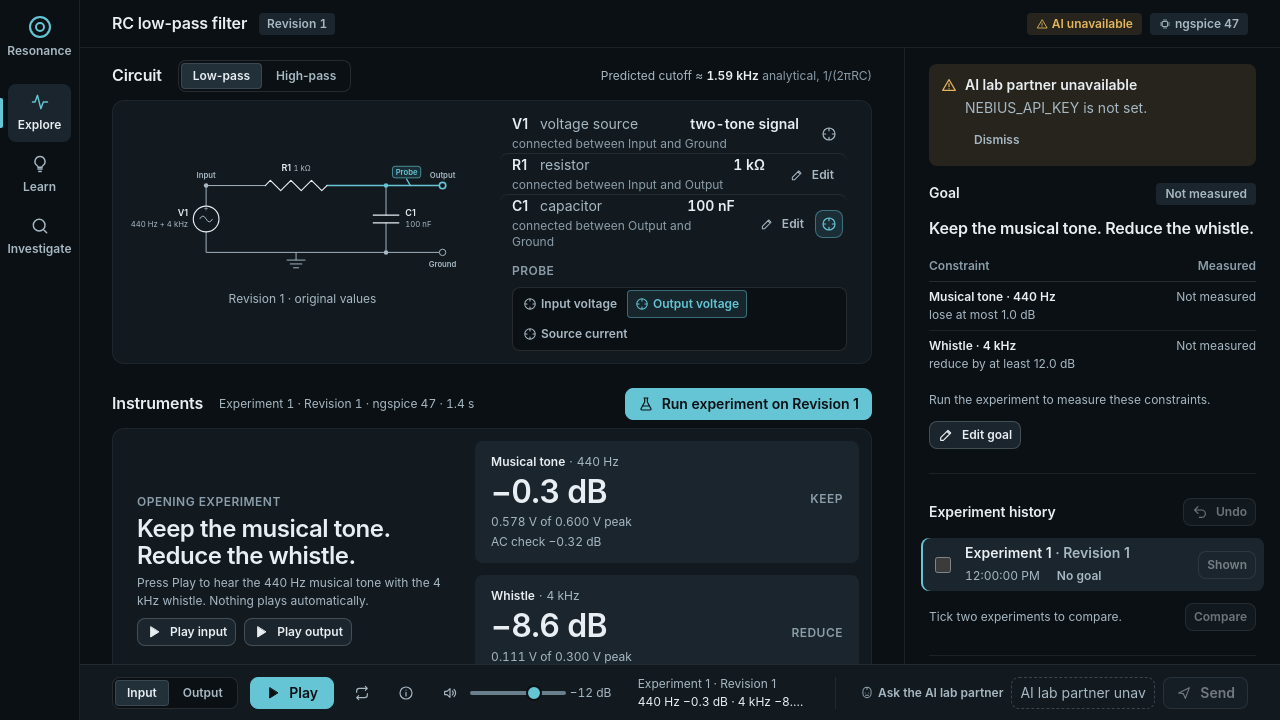
Test: App with AI unavailable › Investigate: Guide me works without AI and Investigate for me is disabled with a reason
expect the text "AI unavailable" is shown: met, box [1027,12,1142,34]
Click the button "Investigate": x=40, y=237 [8,208,71,266]
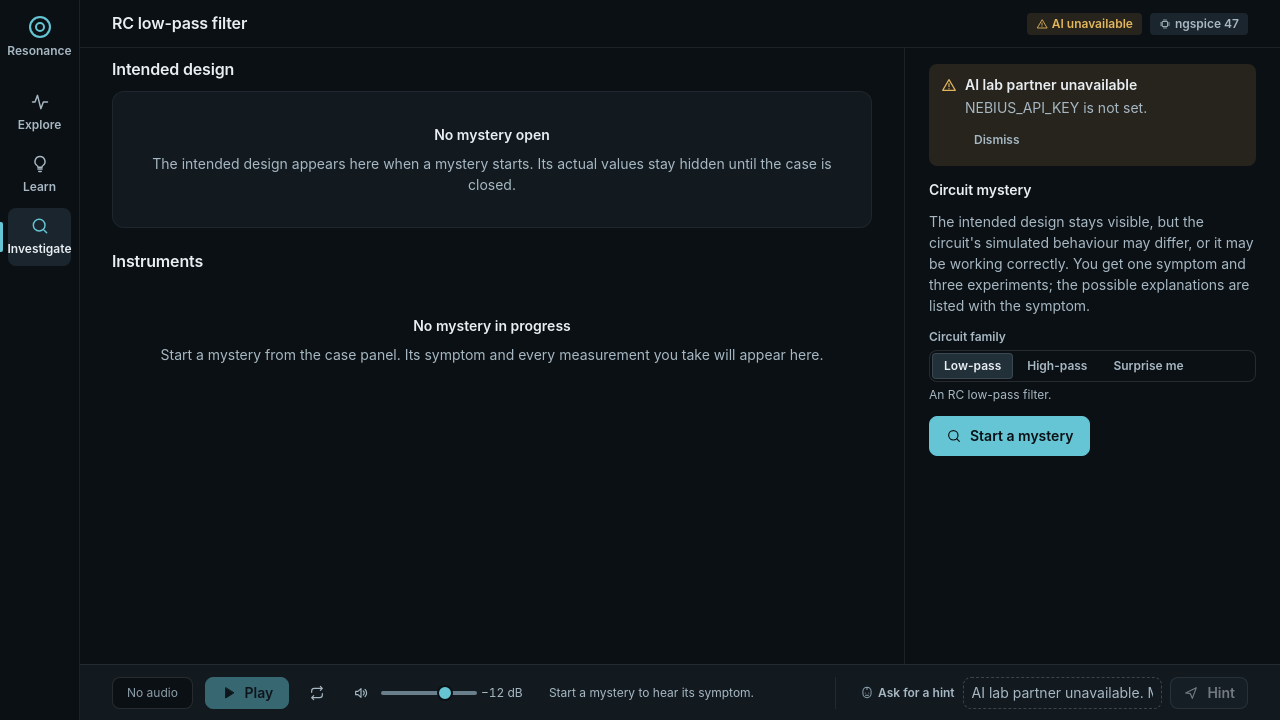
Click the button "Start a mystery": x=1010, y=436 [929,416,1090,456]
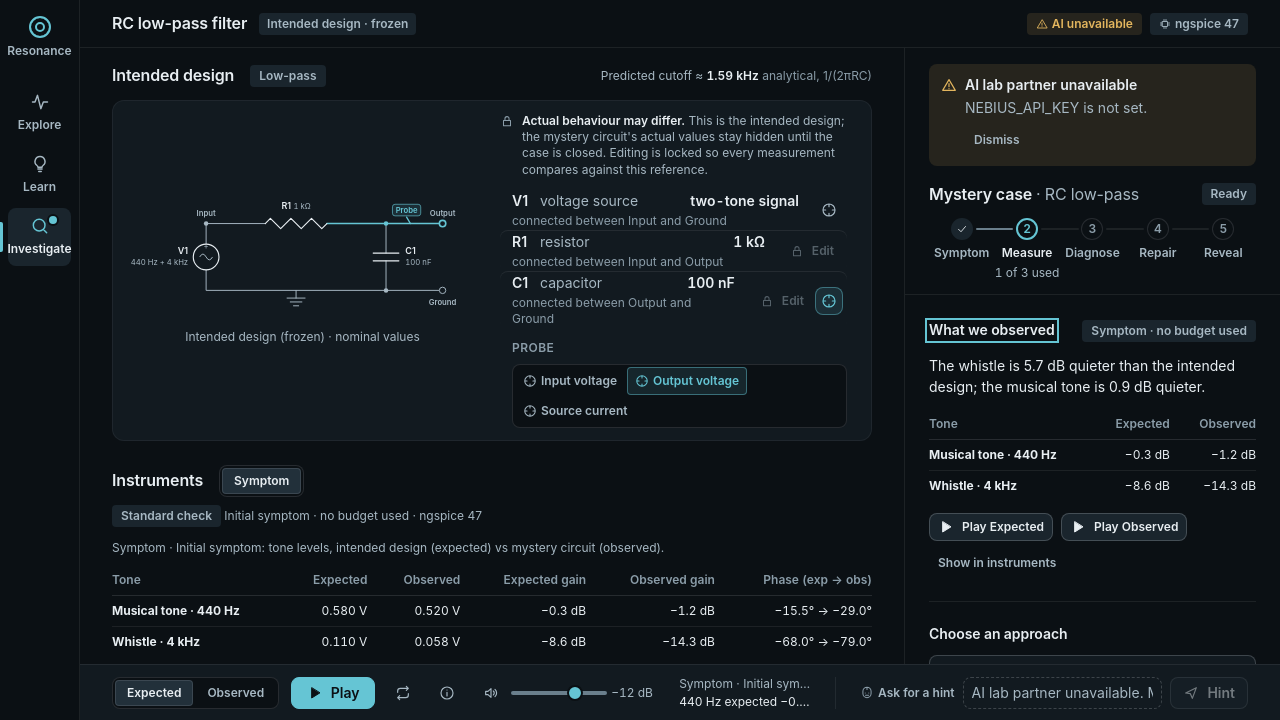
expect the button with aria-label "Edit R1 value" is disabled: met, box [781,237,843,265]
